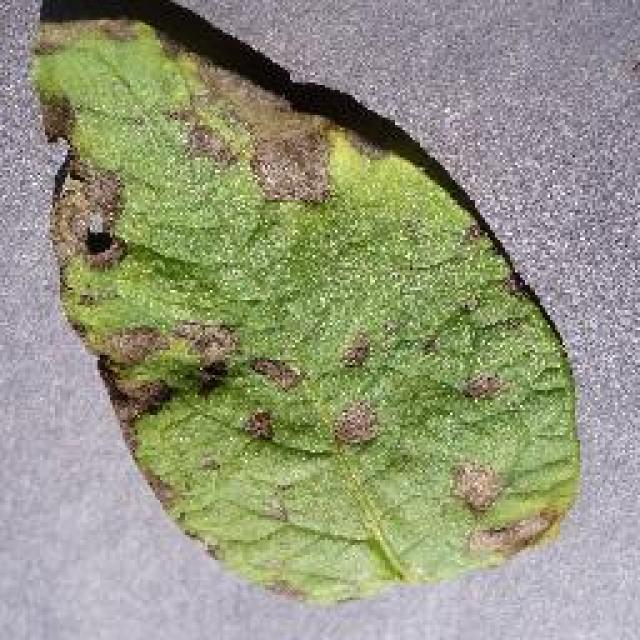Potato: (28, 10, 582, 605)
